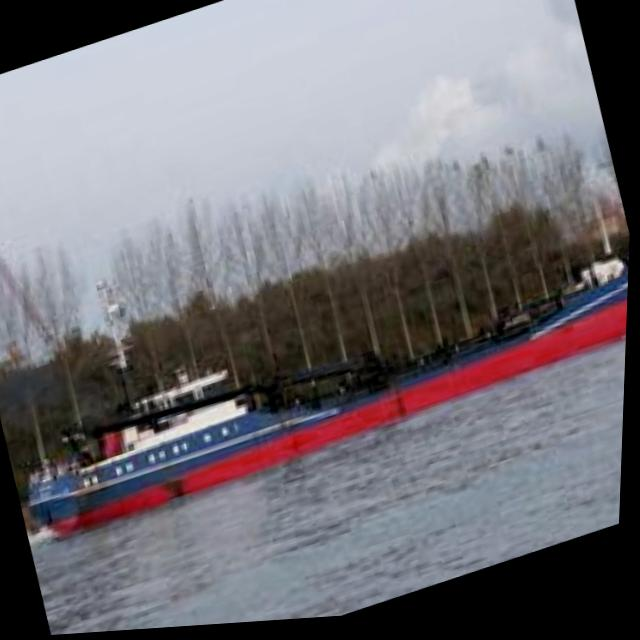ship2: (30, 207, 632, 542)
